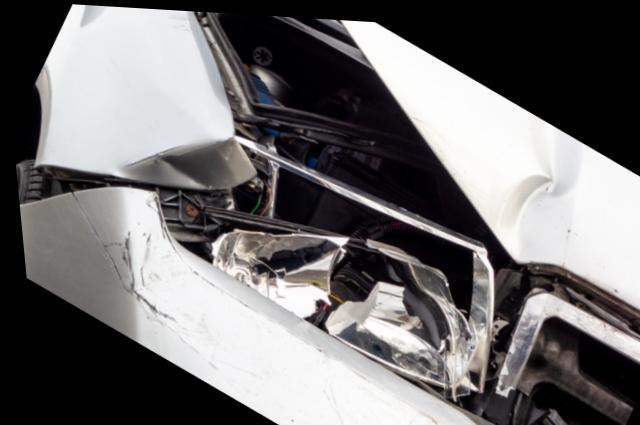dent: (110, 134, 239, 183), (488, 169, 564, 252)
dislocated part: (191, 9, 640, 337), (13, 165, 484, 425)
lamp broken: (168, 144, 468, 384)
scratch: (84, 193, 229, 342)
